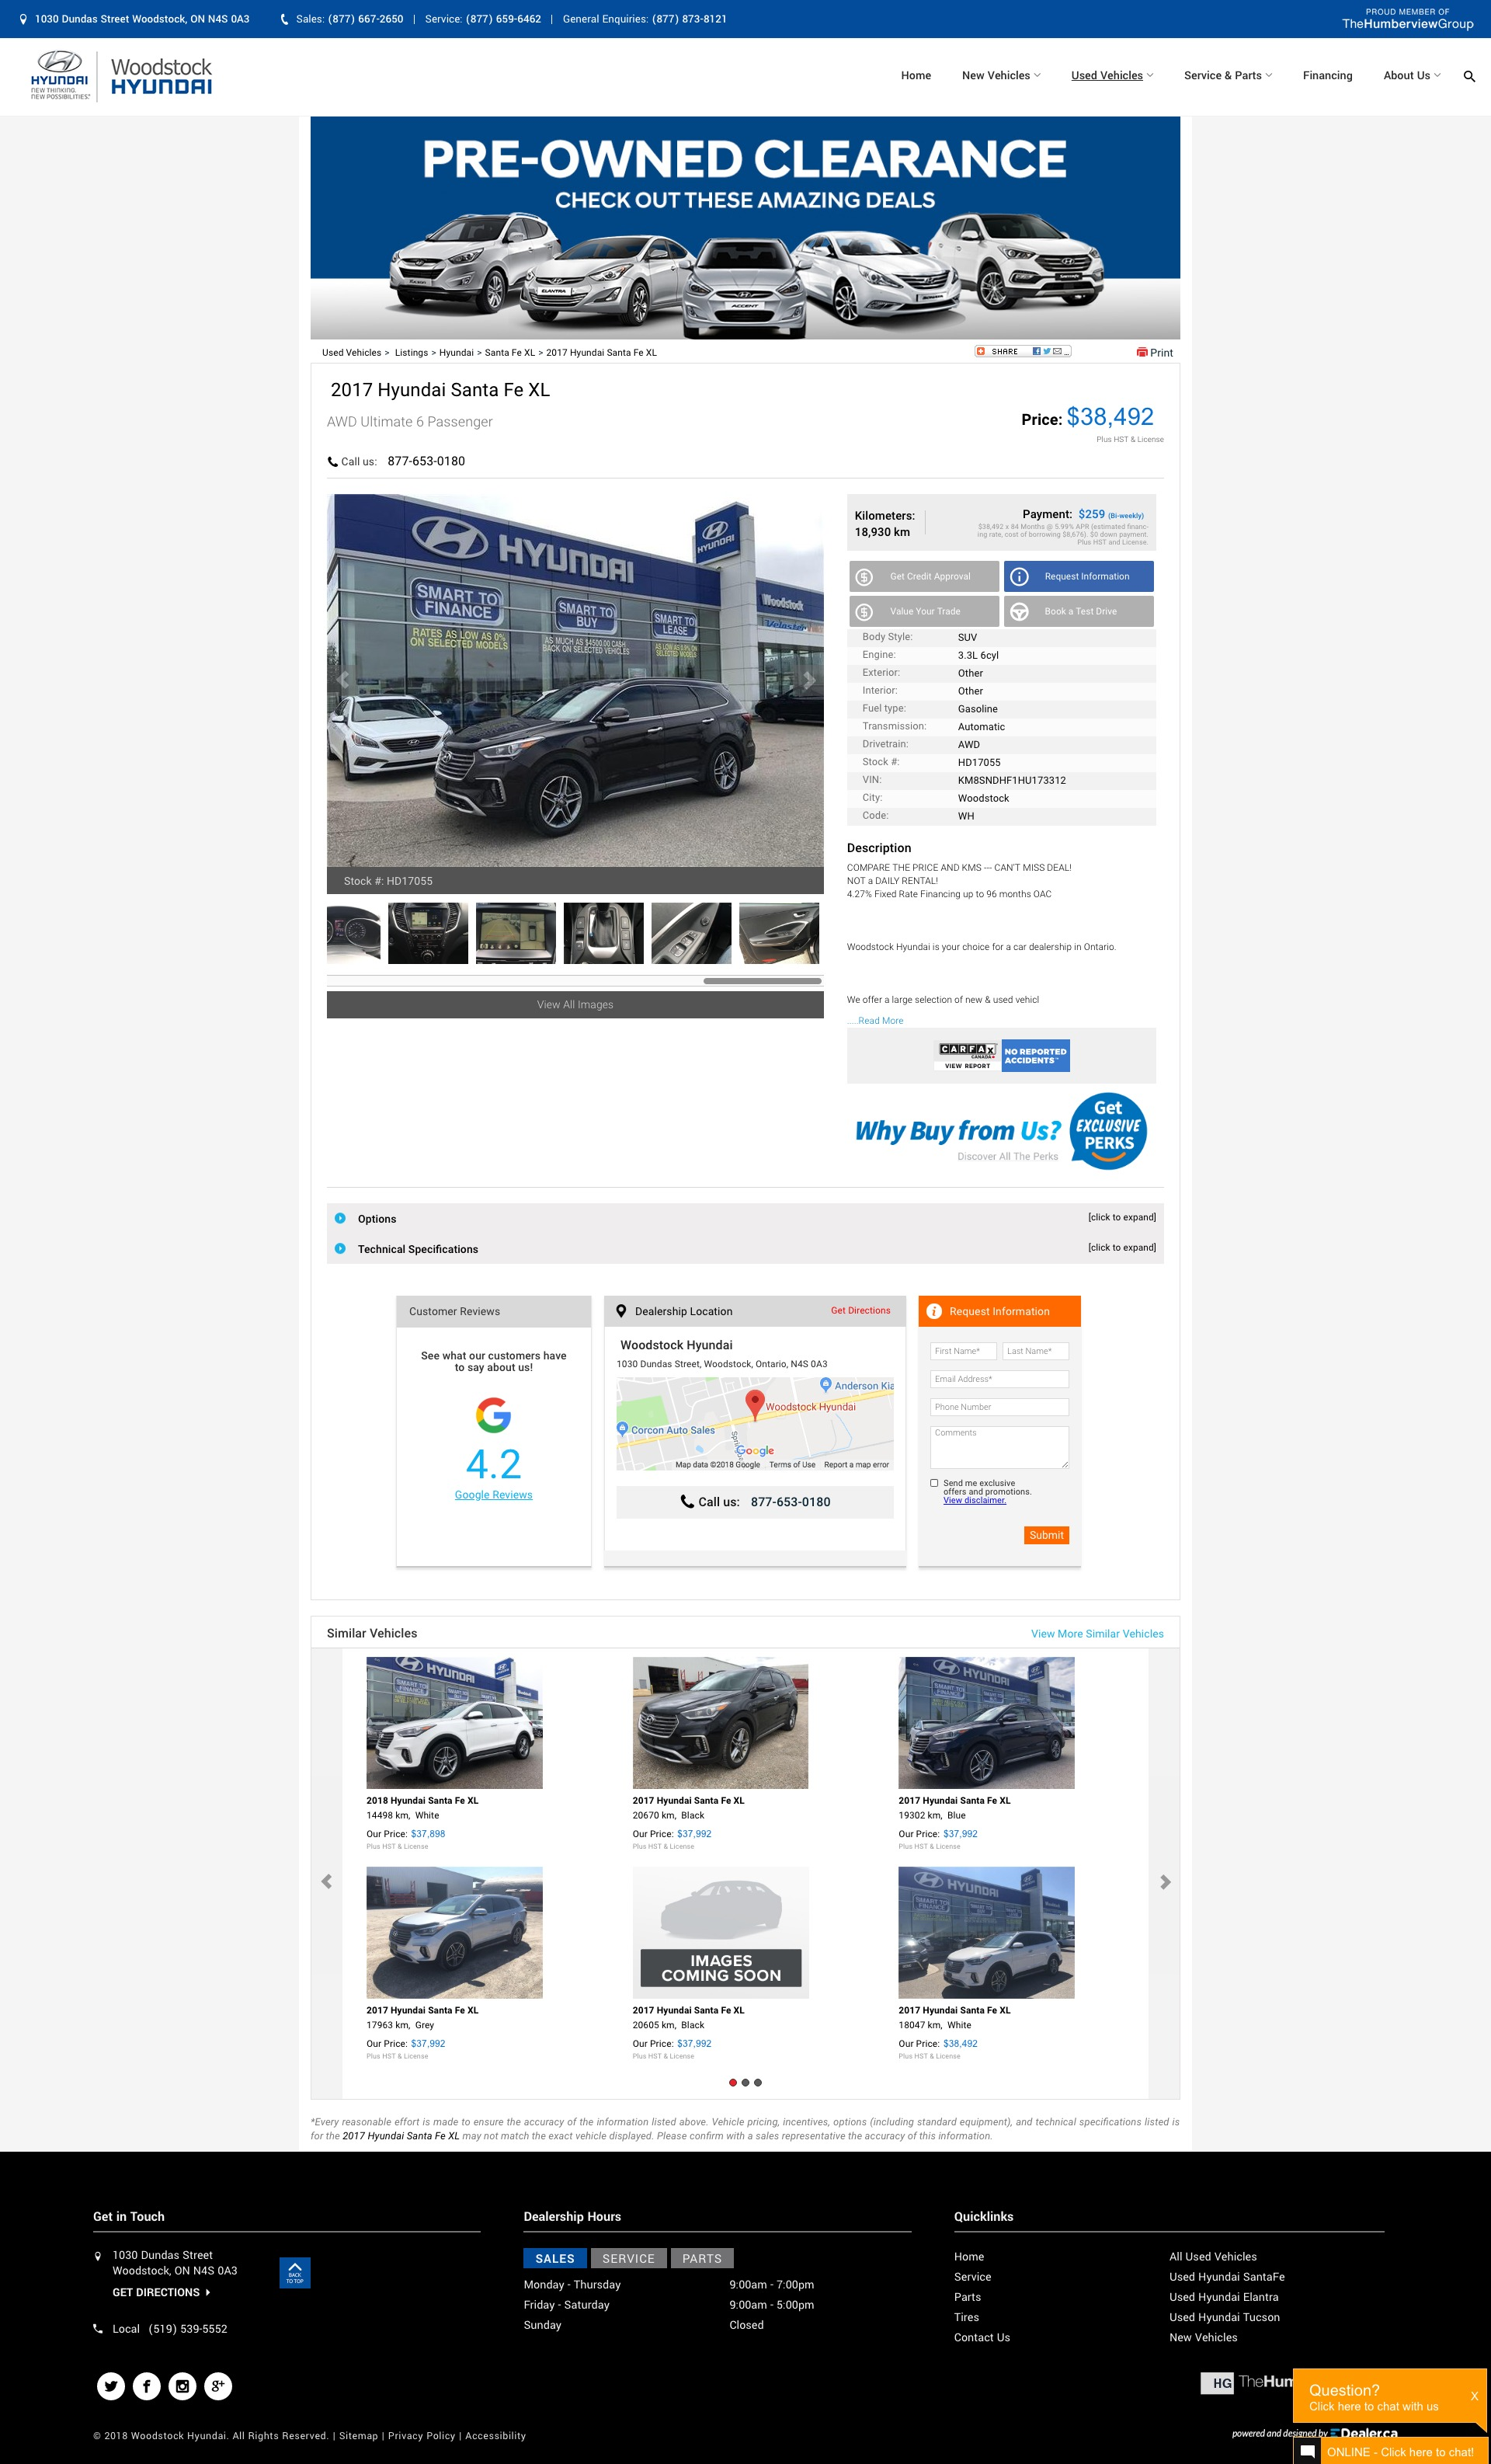car: (803, 672, 817, 690)
